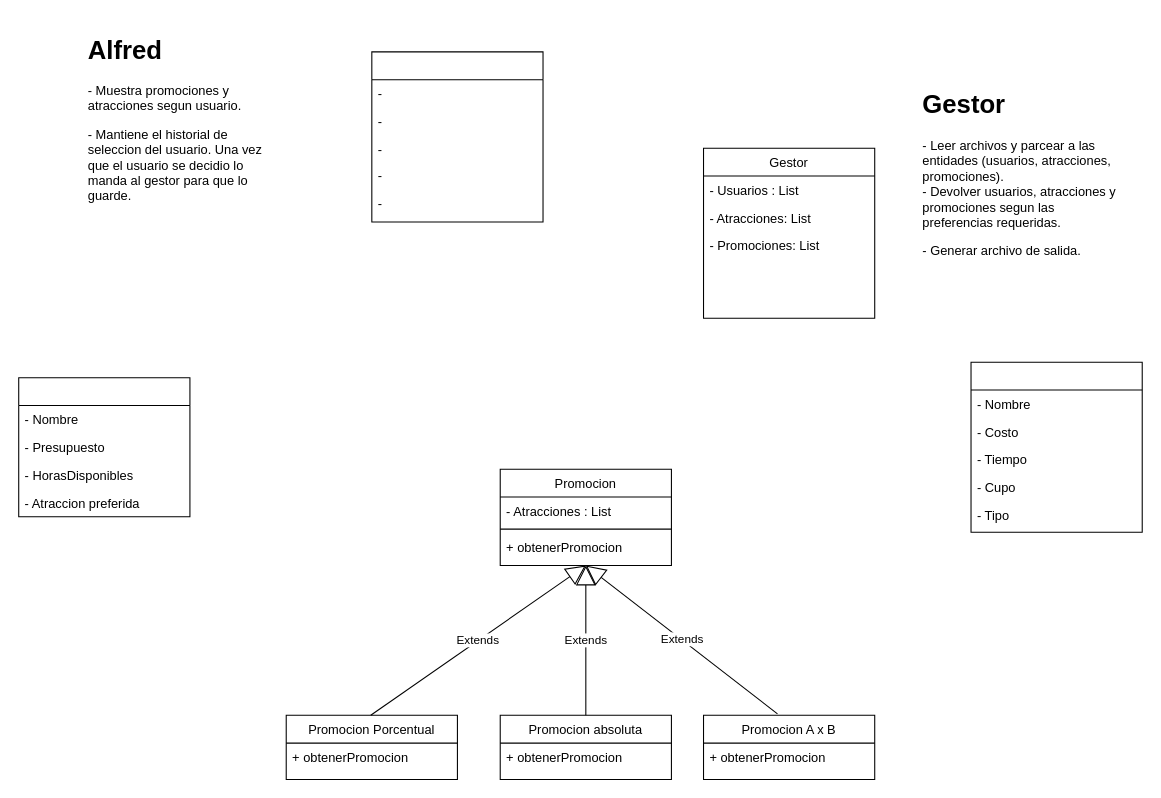
This 1161x798 diagram has some shape labels left out. Here are the shapes that lost their labels. From the top down, the box of each, then its label:
(371, 51, 543, 222): Alfred (Host)
(18, 377, 190, 517): Usuario
(970, 361, 1142, 532): Atraccion
